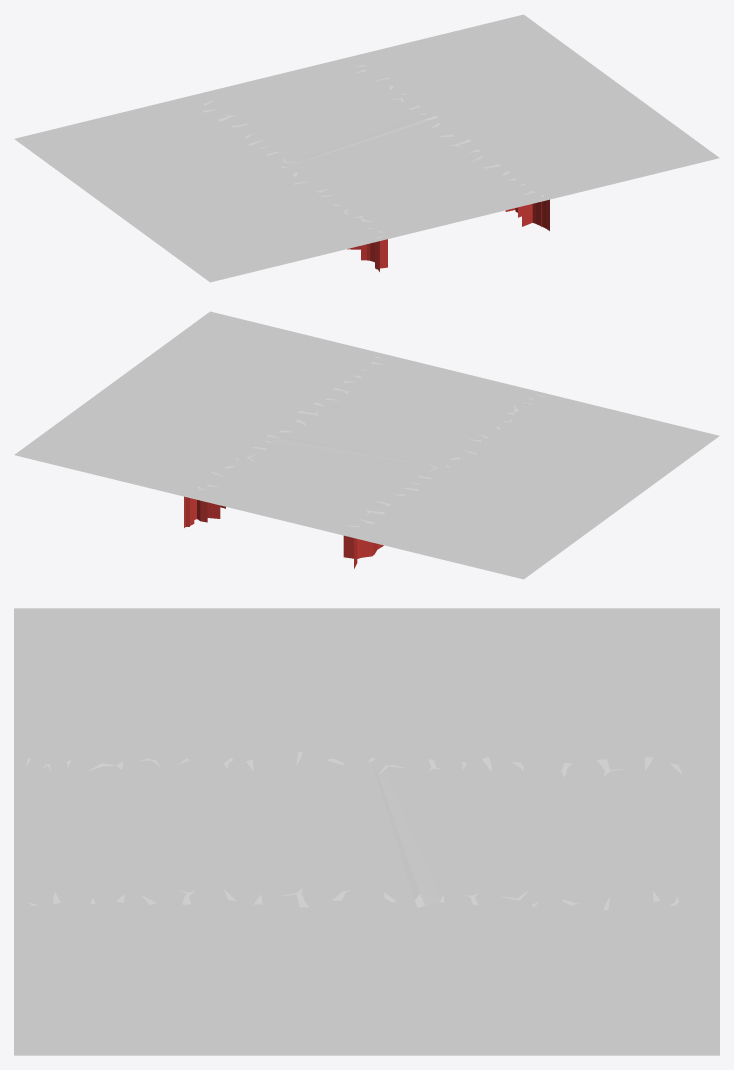
File: newice2 2.fbx
The picture shows the model from 3 angles, top to bottom: view 1: azimuth 30°, elevation 25°; view 2: azimuth 150°, elevation 25°; view 3: azimuth 270°, elevation 25°; orthographic projection. The views are drawn at different scales.
Visible parts, largest first — view 1: Plane.006, Plane.007, Plane.008, Plane.001; view 2: Plane.007, Plane.006, Plane.008, Plane.001; view 3: Plane.006, Plane.007, Plane.008, Plane.001.
Boxes of the visible parts, x1,y1,x2,y2 form: Plane.006: (353, 14, 719, 227); Plane.007: (14, 97, 379, 282); Plane.008: (184, 56, 549, 269); Plane.001: (203, 65, 543, 237); Plane.007: (354, 394, 719, 579); Plane.006: (14, 311, 379, 527); Plane.008: (184, 353, 549, 558); Plane.001: (197, 357, 544, 527); Plane.006: (14, 899, 719, 1055); Plane.007: (14, 608, 719, 766); Plane.008: (14, 752, 719, 910); Plane.001: (26, 751, 682, 910).
Bounding box in the file's own units: 8400 × 505 × 5600.
